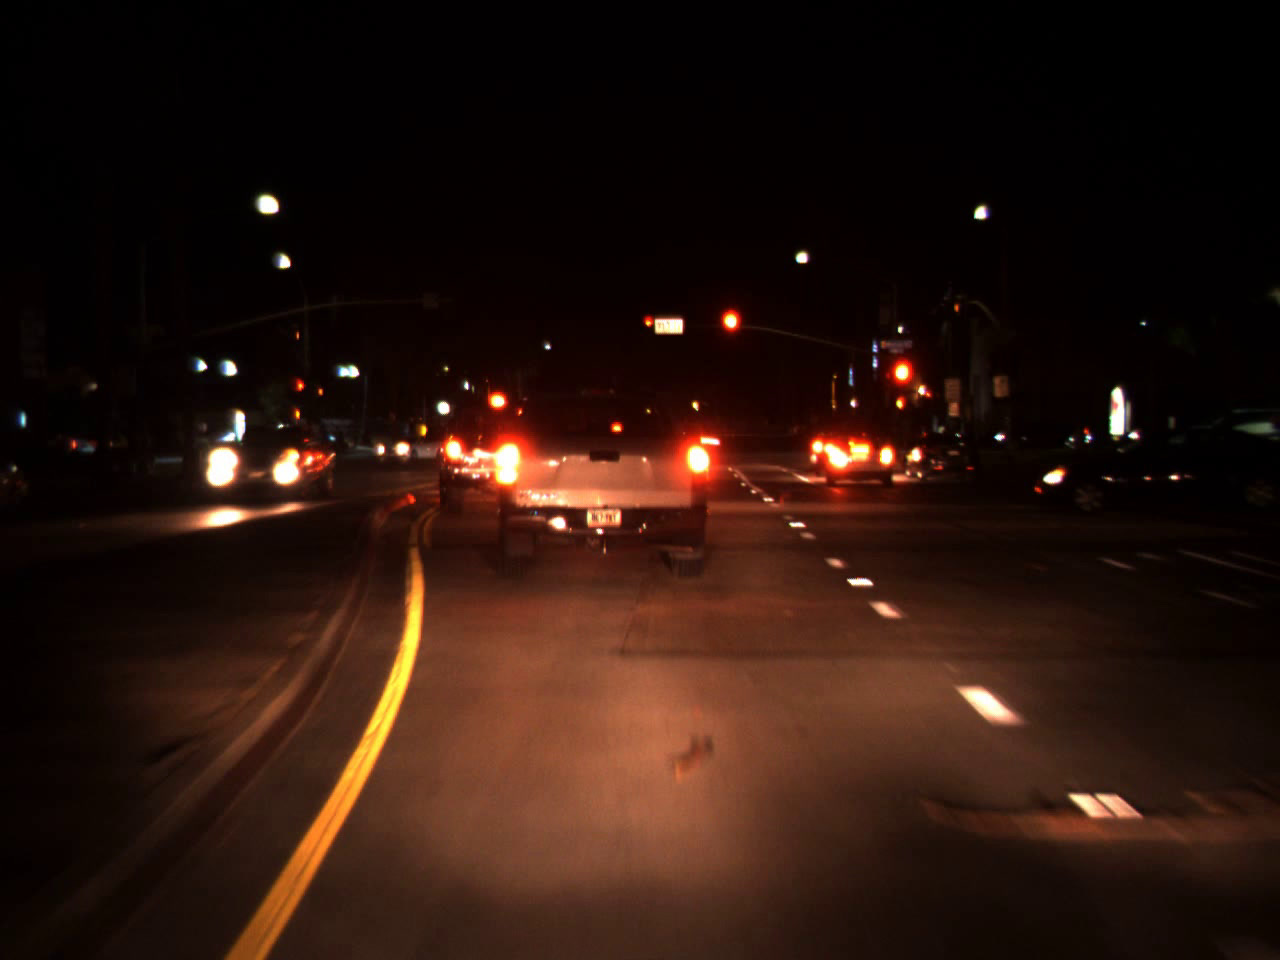stop: (887, 354, 917, 418), (718, 304, 743, 360), (643, 316, 655, 337), (296, 377, 305, 404)
